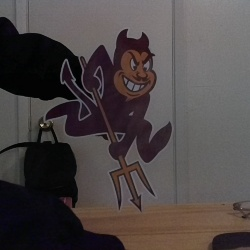sparky: (42, 26, 173, 211)
